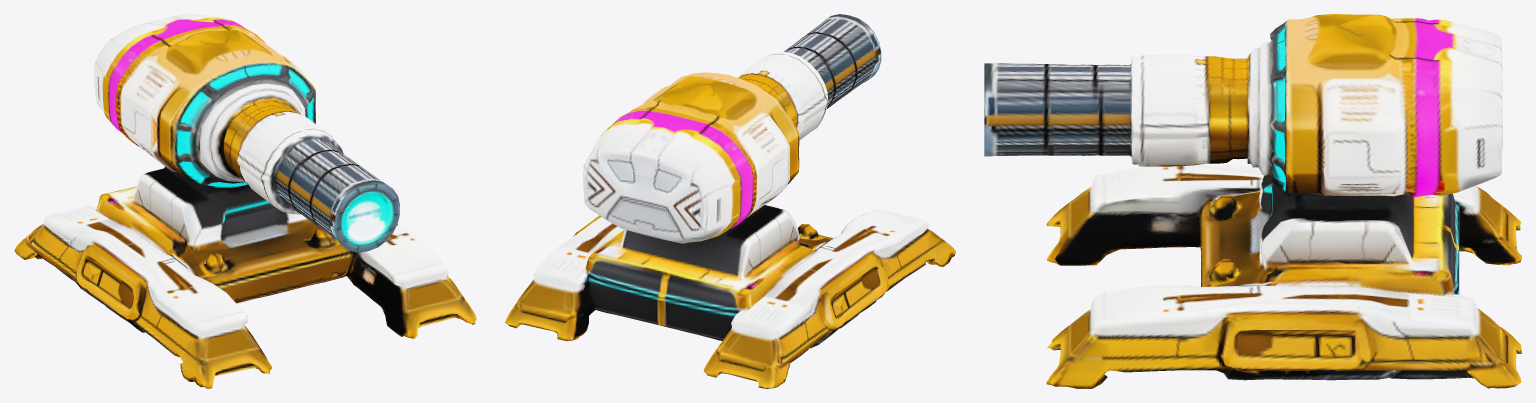
File: base_basic_shaded.fbx
The picture shows the model from 3 angles, left to right: view 1: azimuth 30°, elevation 25°; view 2: azimuth 150°, elevation 25°; view 3: azimuth 270°, elevation 25°; orthographic projection. The views are drawn at different scales.
Parts seen in each view (by area): view 1: root.0, root.3, root.1, root.4, root.2; view 2: root.0, root.1, root.3, root.4, root.2, root.5; view 3: root.0, root.2, root.4, root.1, root.3, root.5.
Part boxes in pixels (left/top/right/bottom): root.0: left=94, top=14, right=315, bottom=188; root.3: left=22, top=205, right=271, bottom=388; root.1: left=97, top=166, right=354, bottom=303; root.4: left=223, top=101, right=399, bottom=252; root.2: left=346, top=224, right=476, bottom=338; root.0: left=582, top=72, right=799, bottom=243; root.1: left=585, top=205, right=832, bottom=340; root.3: left=711, top=209, right=955, bottom=372; root.4: left=737, top=14, right=881, bottom=140; root.2: left=512, top=215, right=624, bottom=323; root.5: left=505, top=302, right=808, bottom=388; root.0: left=1247, top=14, right=1502, bottom=197; root.2: left=1046, top=285, right=1507, bottom=388; root.4: left=984, top=54, right=1247, bottom=166; root.1: left=1200, top=175, right=1459, bottom=295; root.3: left=1046, top=164, right=1507, bottom=265; root.5: left=1390, top=203, right=1521, bottom=388.
Bounding box in the file's own units: 136 × 105 × 183.
